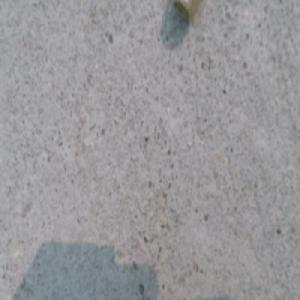BoltNutSet: (172, 1, 198, 22)
